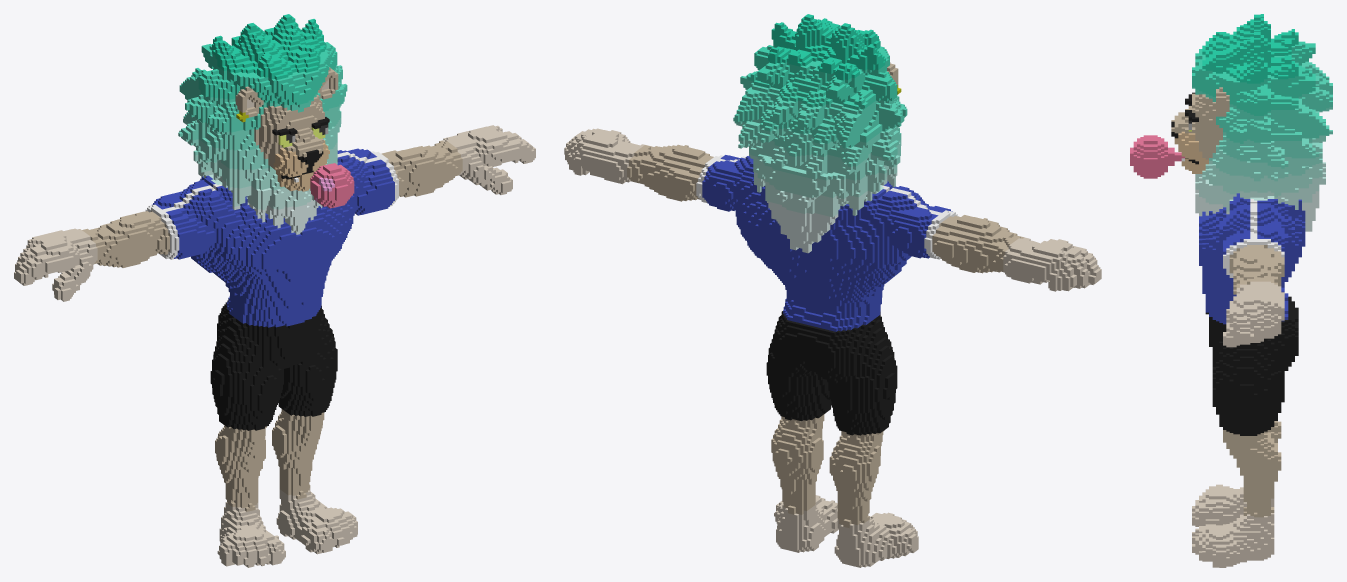
File: 1093-DCIHcGNj.glb
The picture shows the model from 3 angles, left to right: view 1: azimuth 30°, elevation 25°; view 2: azimuth 150°, elevation 25°; view 3: azimuth 270°, elevation 25°; orthographic projection. The views are drawn at different scales.
Visible parts, largest first — view 1: bubble_gum; view 2: bubble_gum; view 3: bubble_gum.
Part boxes in pixels (<box>): bubble_gum: <box>14,14,535,567</box>; bubble_gum: <box>564,14,1101,567</box>; bubble_gum: <box>1130,14,1332,567</box>.
Bounding box in the file's own units: 17.2 × 16.5 × 5.9.
Materials: 6 (6 with a texture image).
